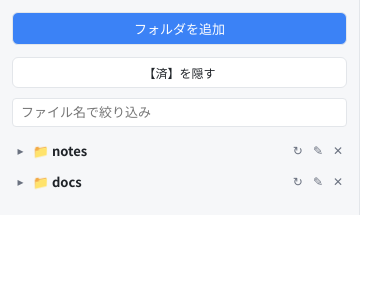
Sidebar › 複数フォルダを名前とツリー付きで並べて表示する
Expected: the text "📁 notes" is shown, [33,141,87,160]
Expected: the text "📁 docs" is shown, [33,172,82,191]
What coordinates should you click on to do the following:
click the button named "notes を展開する"
I would click on:
 (20, 150)
Its box is [12,142,29,160].
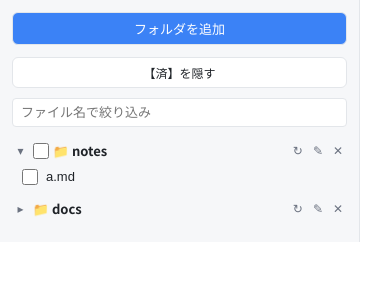
What coordinates should you click on to do the following:
click the button named "docs を展開する"
I would click on:
 (20, 208)
Its box is [12,200,29,218].
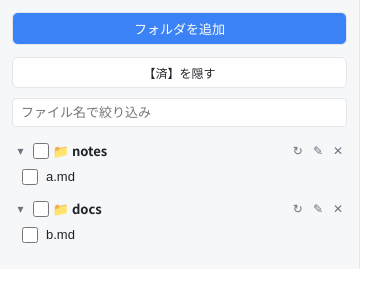
Now the button "a.md" is shown, box [40,166,321,187]
Now the button "b.md" is shown, box [40,224,321,245]
